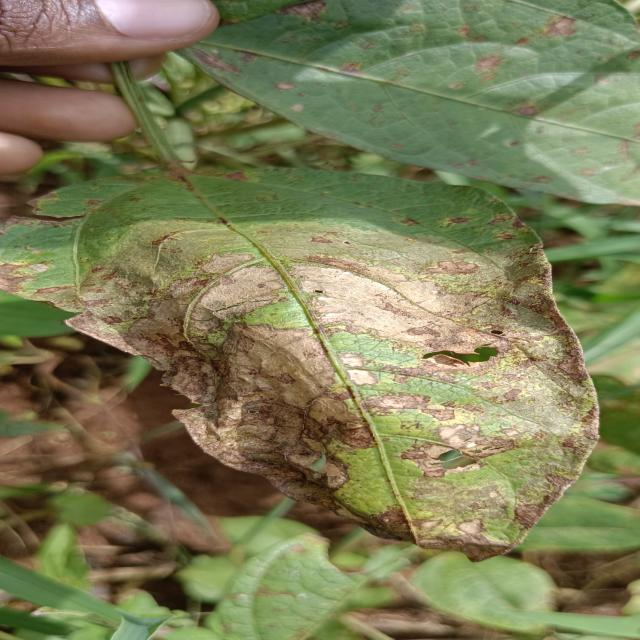Black gram_leaf spot: (35, 168, 599, 550)
